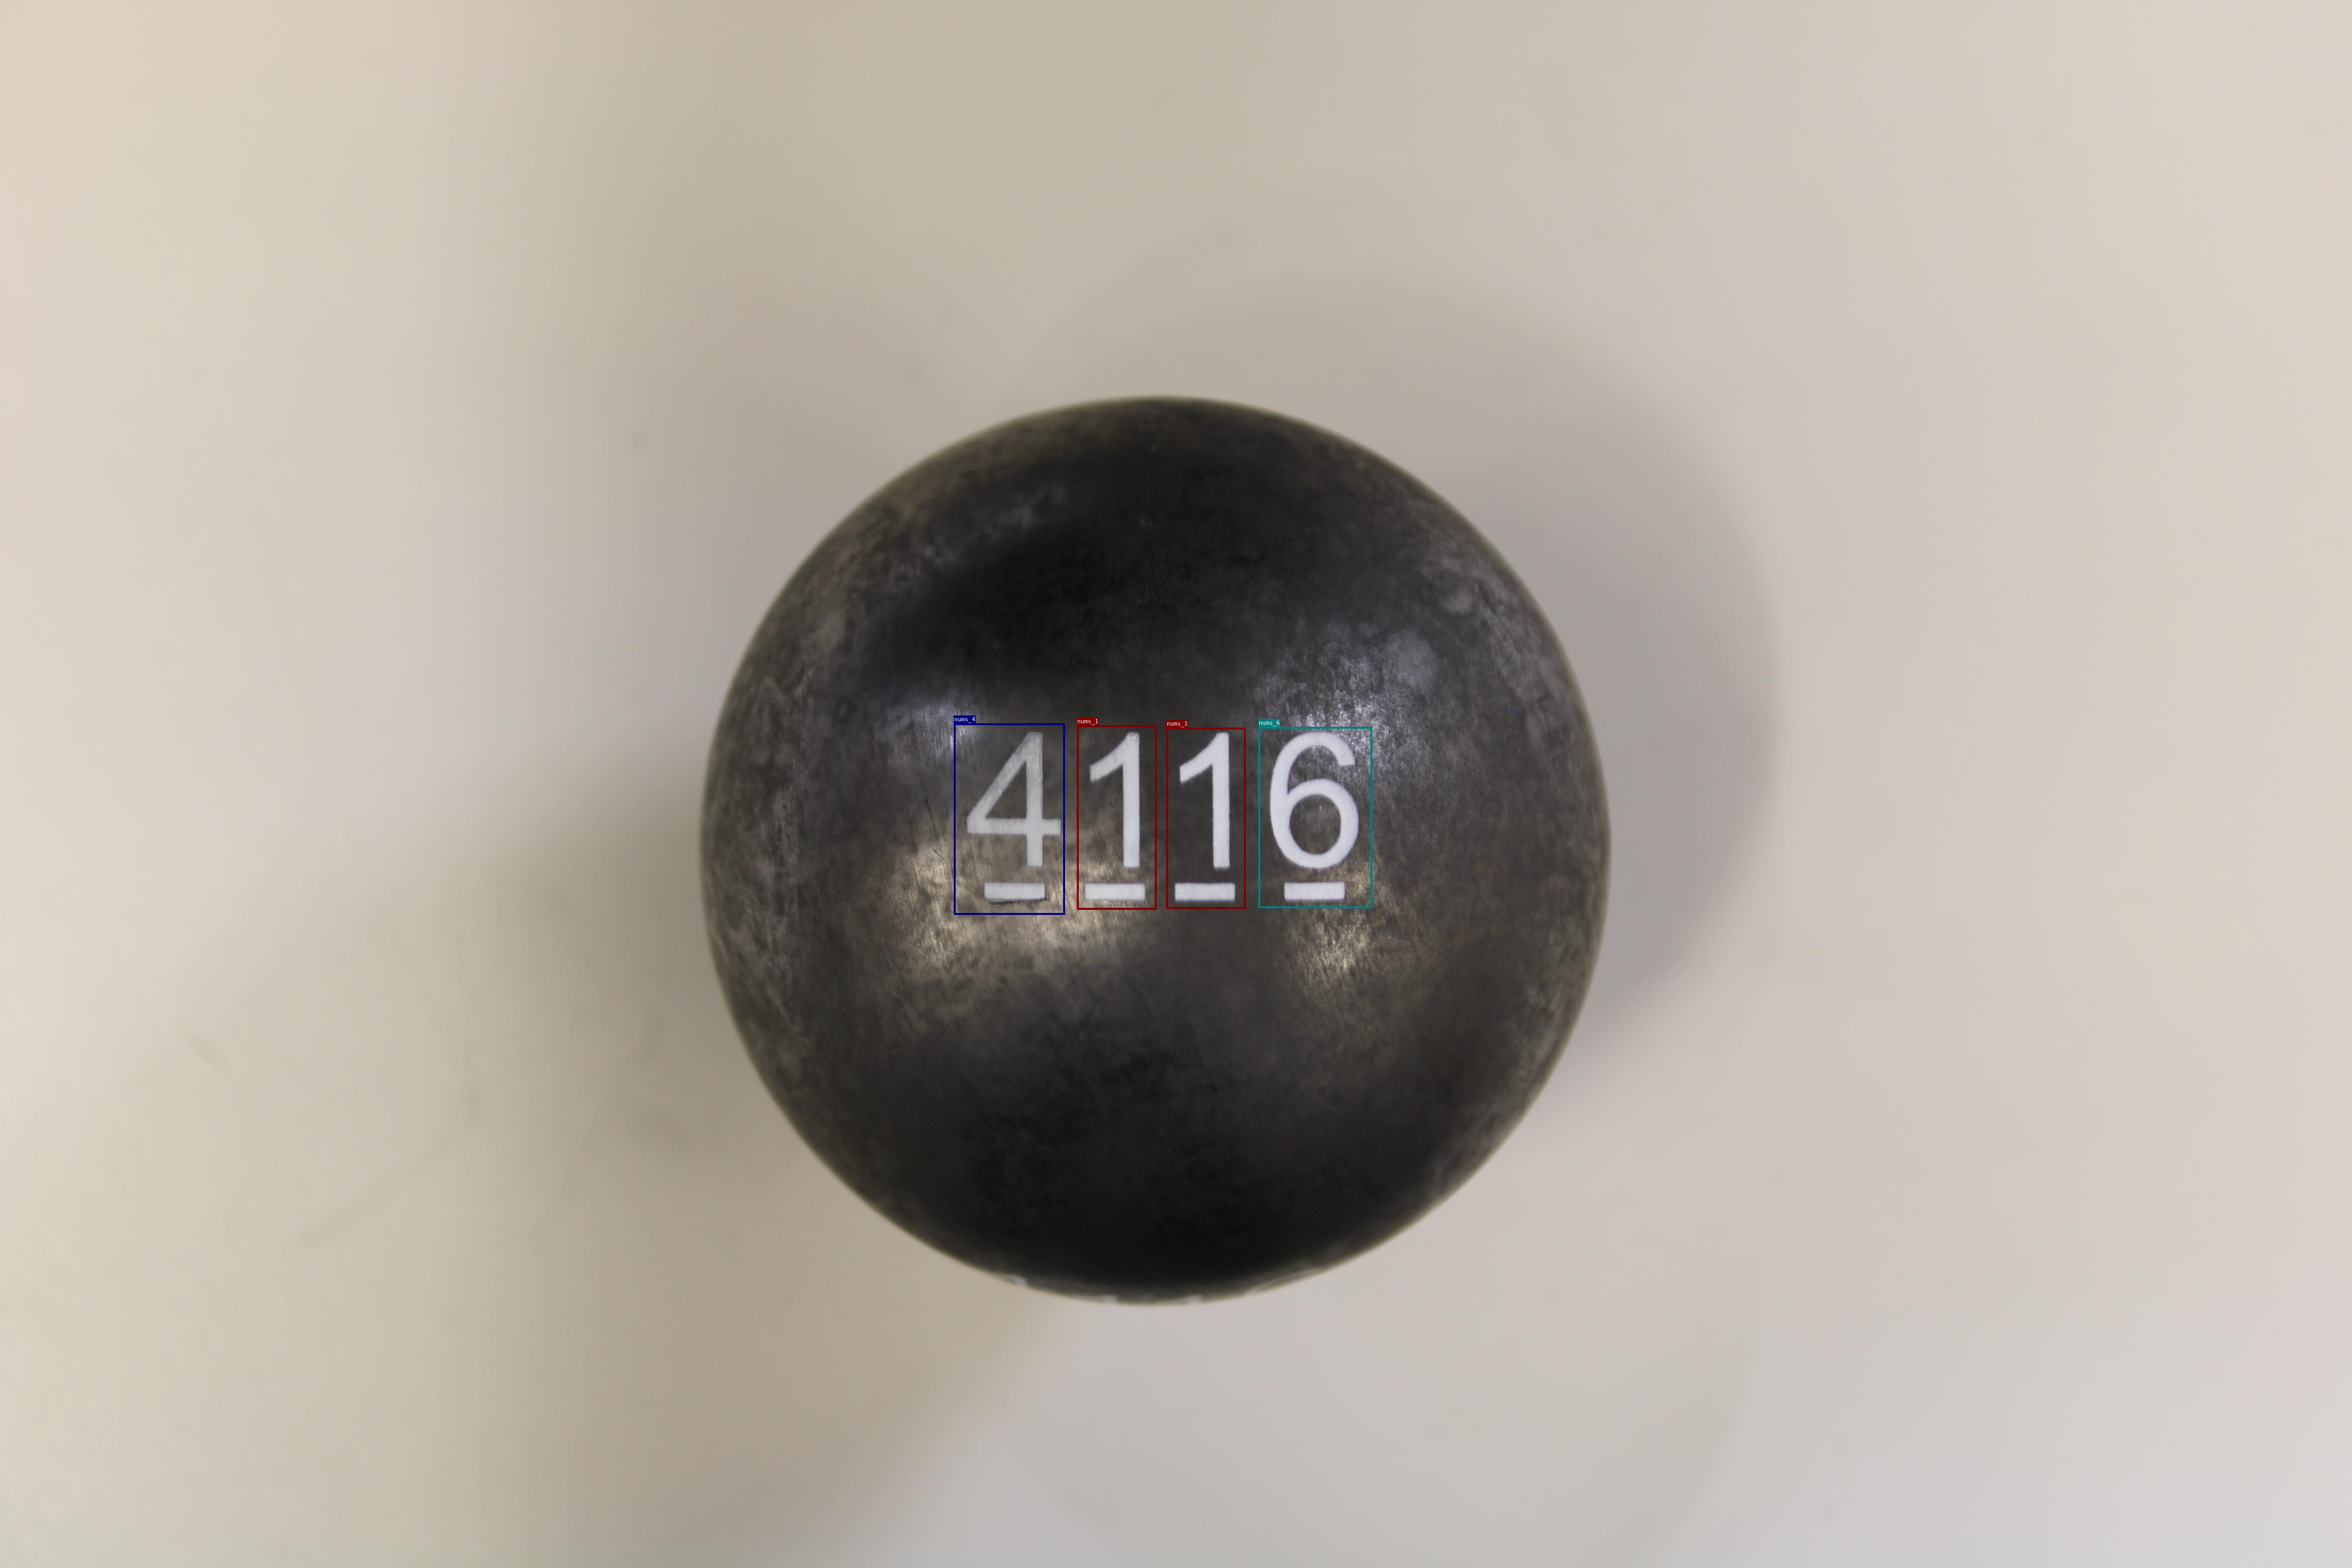nums_1: (1076, 724, 1157, 910), (1165, 728, 1246, 908)
nums_4: (954, 723, 1064, 915)
nums_6: (1258, 726, 1372, 908)
